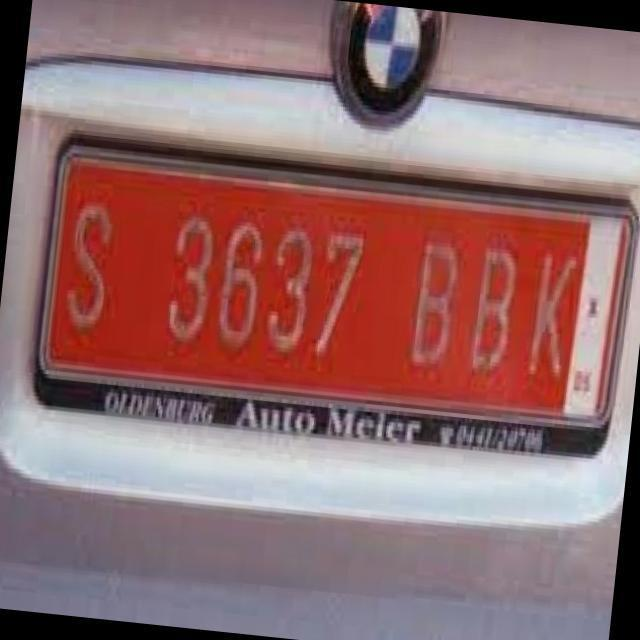License Plate: (16, 118, 640, 484), (618, 225, 640, 482)
